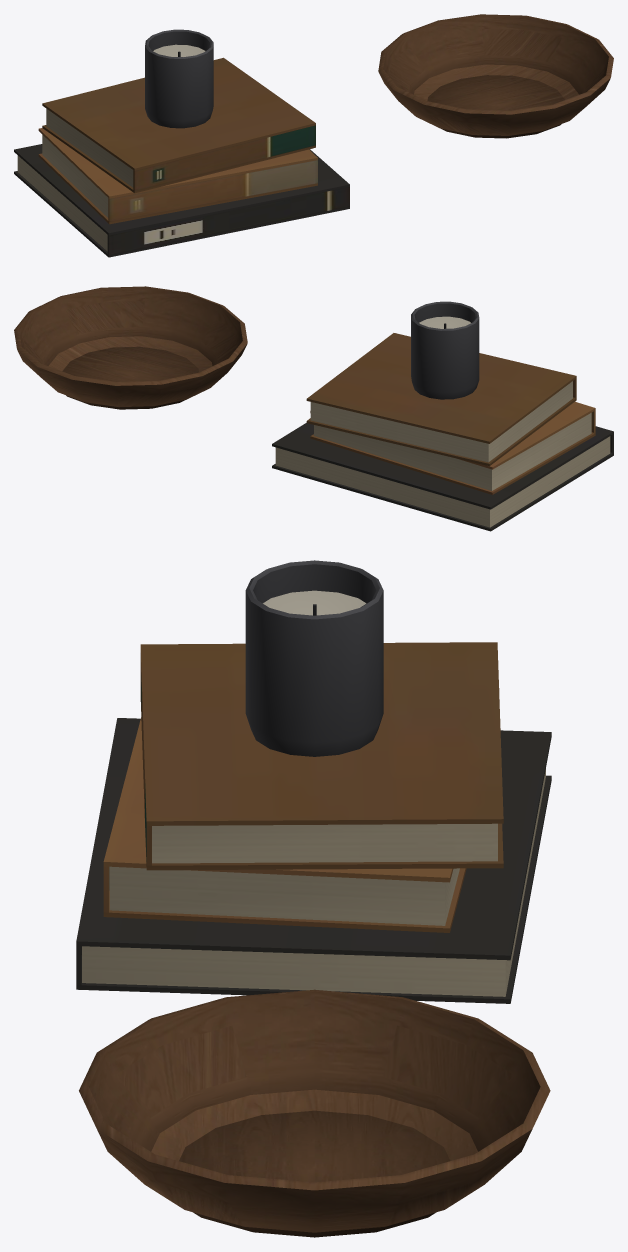
File: decor_a_console_sofa.gltf
The picture shows the model from 3 angles, top to bottom: view 1: azimuth 30°, elevation 25°; view 2: azimuth 150°, elevation 25°; view 3: azimuth 270°, elevation 25°; orthographic projection. The views are drawn at different scales.
Visible parts, largest first — view 1: DecorAConsoleSofa_spines_NoCollide, DecorAConsoleSofa_walnut_NoCollide, DecorAConsoleSofa_charcoal_NoCollide, DecorAConsoleSofa_candle_NoCollide; view 2: DecorAConsoleSofa_spines_NoCollide, DecorAConsoleSofa_walnut_NoCollide, DecorAConsoleSofa_charcoal_NoCollide, DecorAConsoleSofa_candle_NoCollide; view 3: DecorAConsoleSofa_spines_NoCollide, DecorAConsoleSofa_walnut_NoCollide, DecorAConsoleSofa_charcoal_NoCollide, DecorAConsoleSofa_candle_NoCollide.
Boxes of the visible parts, x1,y1,x2,y2 form: DecorAConsoleSofa_spines_NoCollide: (14, 57, 349, 257); DecorAConsoleSofa_walnut_NoCollide: (378, 14, 613, 138); DecorAConsoleSofa_charcoal_NoCollide: (145, 29, 213, 128); DecorAConsoleSofa_candle_NoCollide: (153, 44, 205, 56); DecorAConsoleSofa_spines_NoCollide: (272, 333, 613, 531); DecorAConsoleSofa_walnut_NoCollide: (14, 286, 247, 409); DecorAConsoleSofa_charcoal_NoCollide: (411, 301, 479, 399); DecorAConsoleSofa_candle_NoCollide: (419, 316, 470, 328); DecorAConsoleSofa_spines_NoCollide: (76, 642, 551, 1003); DecorAConsoleSofa_walnut_NoCollide: (79, 989, 550, 1237); DecorAConsoleSofa_charcoal_NoCollide: (245, 560, 383, 756); DecorAConsoleSofa_candle_NoCollide: (263, 590, 366, 615).
Size of the model in its own units: 0.682 by 0.1792 by 0.262.
5 materials, 2 textured.
